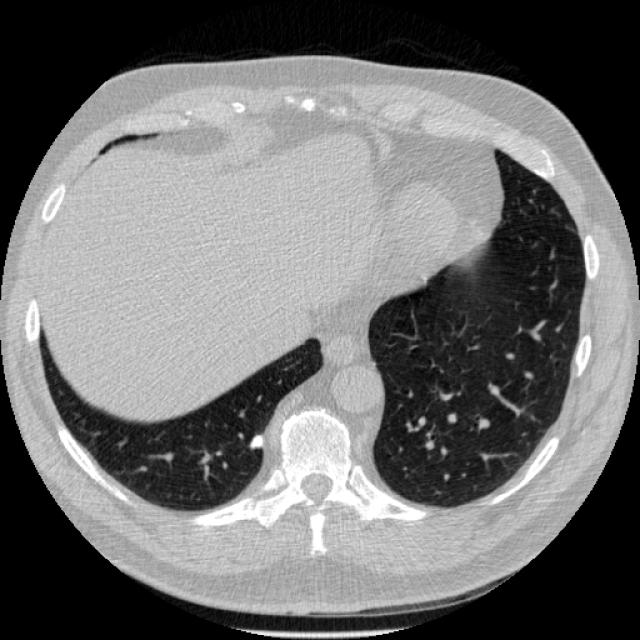nodule: (241, 425, 271, 455)
